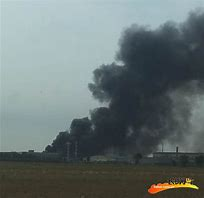smoke: (44, 8, 204, 150)
